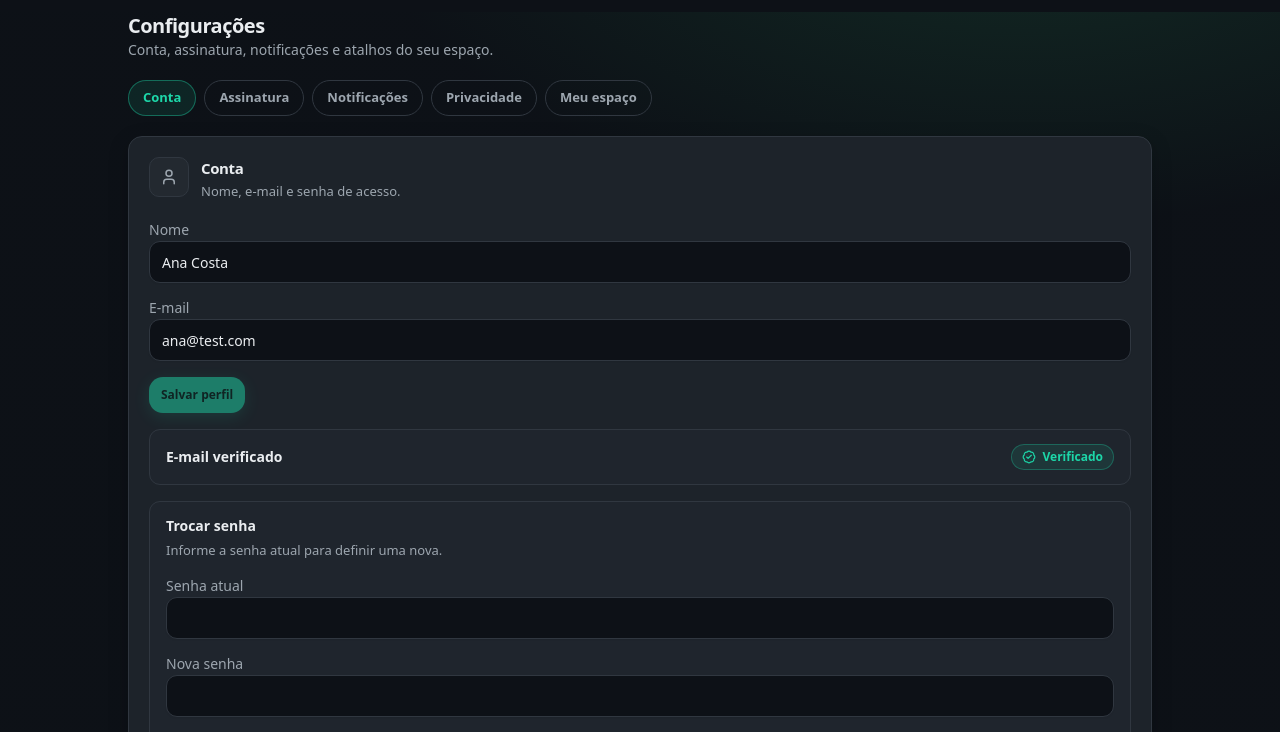
it: CreatorSettingsPage › shows cancel button for active Pro subscription
Step 1. Click the button "Assinatura" → x=254, y=98, box left=204, top=80, right=304, bottom=116
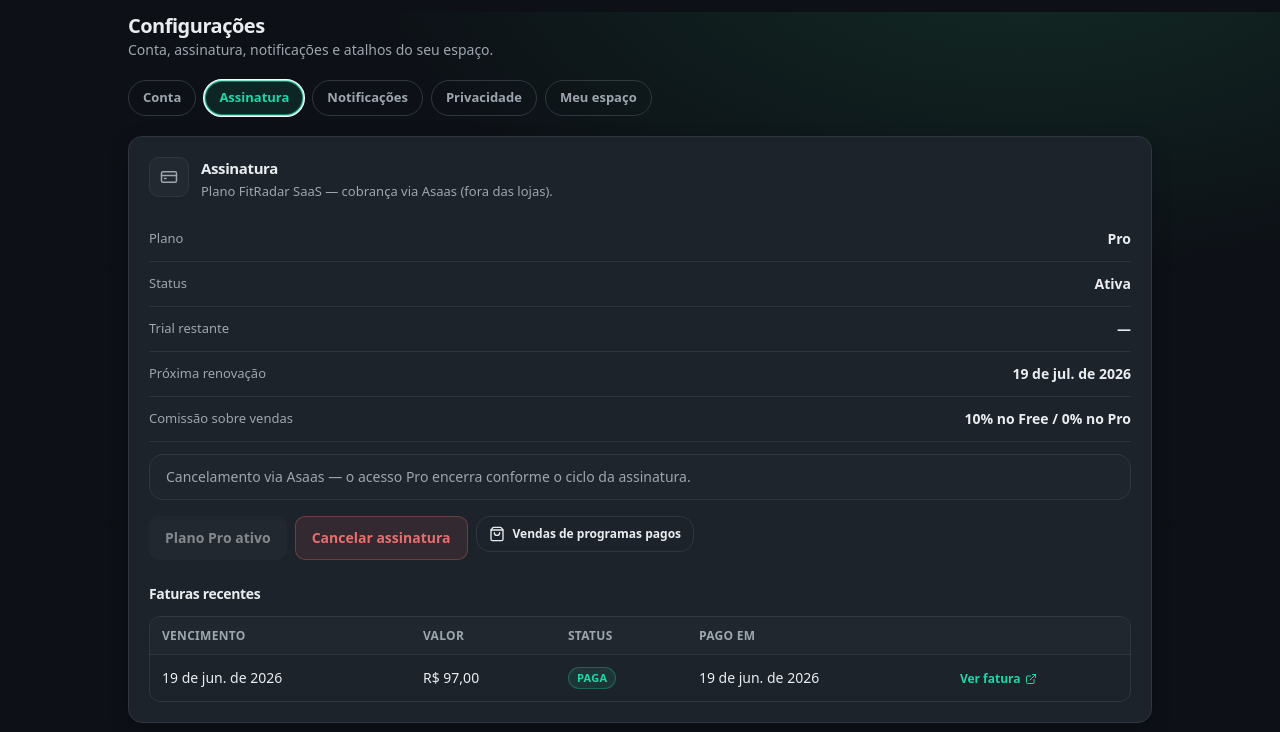
Expected: the button "Cancelar assinatura" is shown, left=295, top=516, right=468, bottom=560
Expected: the heading "Faturas recentes" is shown, left=149, top=584, right=260, bottom=603
Expected: the text "R$ 97,00" is shown, left=411, top=655, right=556, bottom=701
